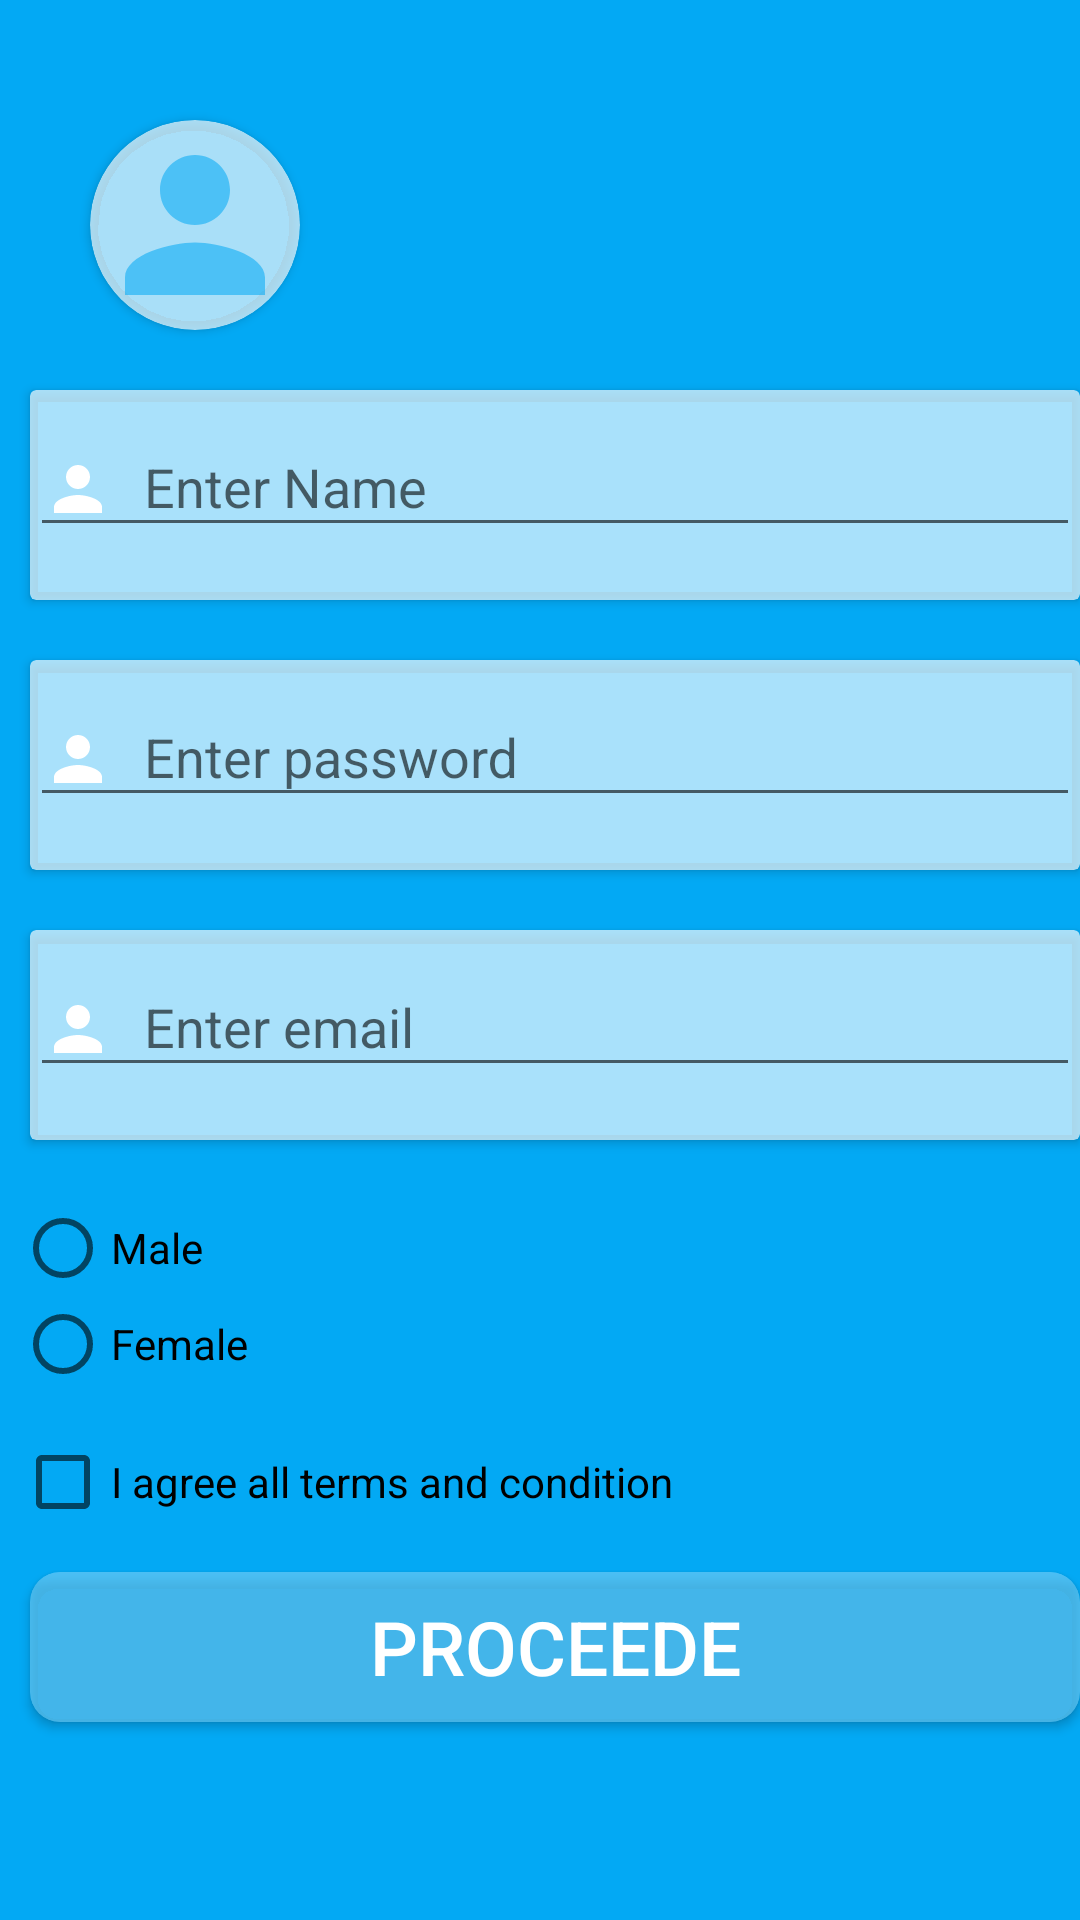

Point at icon controls on the screen. Image size 1080 × 1920, points as (x=x, y=y).
person login: (x=195, y=225)
